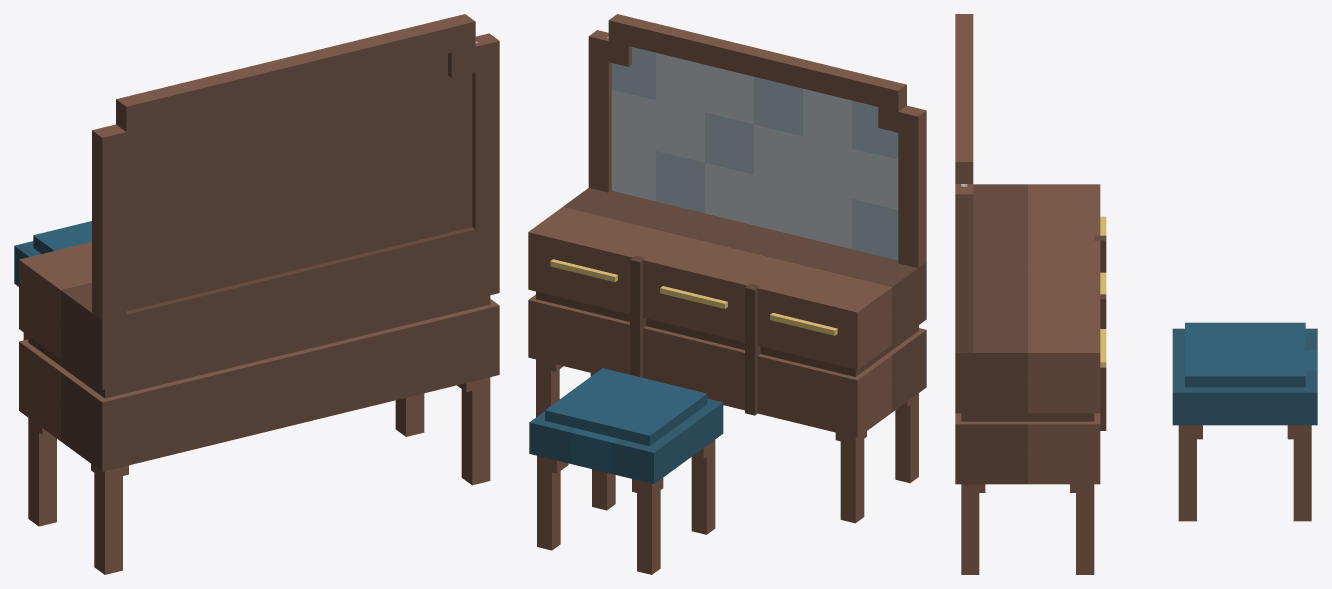
Rendered from dresser and mirror.fbx.
3 views of the same model, side by side, from view 1: azimuth 30°, elevation 25°; view 2: azimuth 150°, elevation 25°; view 3: azimuth 270°, elevation 25° (orthographic). The views are drawn at different scales.
Parts seen in each view (by area): view 1: cube_3, cube_1, cube, cube_8, cube_4, cube_5, cube_2, cube_20, cube_18, cube_14, cube_31, cube_16 (+2 smaller); view 2: cube_3, cube_1, cube, cube_8, cube_31, cube_30, cube_4, cube_5, cube_2, cube_14, cube_26, cube_22 (+10 smaller); view 3: cube_1, cube, cube_31, cube_30, cube_8, cube_5, cube_24, cube_28, cube_16, cube_20, cube_2, cube_11.
Part boxes in pixels (x1,y1,x2,y2): cube_3: (126, 41, 477, 311); cube_1: (19, 224, 499, 389); cube: (19, 299, 499, 471); cube_8: (116, 14, 475, 131); cube_4: (92, 124, 126, 320); cube_5: (472, 33, 499, 229); cube_2: (28, 295, 490, 398); cube_20: (461, 386, 490, 485); cube_18: (94, 473, 122, 574); cube_14: (28, 424, 56, 526); cube_31: (33, 221, 91, 253); cube_16: (395, 393, 424, 436); cube_3: (607, 36, 898, 260); cube_1: (528, 188, 926, 369); cube: (528, 294, 926, 437); cube_8: (608, 14, 906, 111); cube_31: (545, 368, 707, 446); cube_30: (529, 398, 723, 483); cube_4: (898, 105, 926, 267); cube_5: (588, 30, 611, 192); cube_2: (536, 291, 918, 376); cube_14: (840, 439, 864, 523); cube_26: (691, 450, 715, 534); cube_22: (637, 490, 660, 574); cube_1: (955, 184, 1100, 413); cube: (955, 413, 1100, 484); cube_31: (1185, 322, 1305, 387); cube_30: (1172, 328, 1317, 425); cube_8: (955, 14, 973, 183); cube_5: (955, 184, 973, 352); cube_24: (1178, 439, 1196, 521); cube_28: (1293, 439, 1311, 521); cube_16: (1076, 493, 1094, 574); cube_20: (961, 493, 979, 574); cube_2: (961, 413, 1094, 421); cube_11: (1094, 294, 1106, 430).
Size of the model in its own units: 41.25 by 46.25 by 37.5.
1 material, 1 textured.
